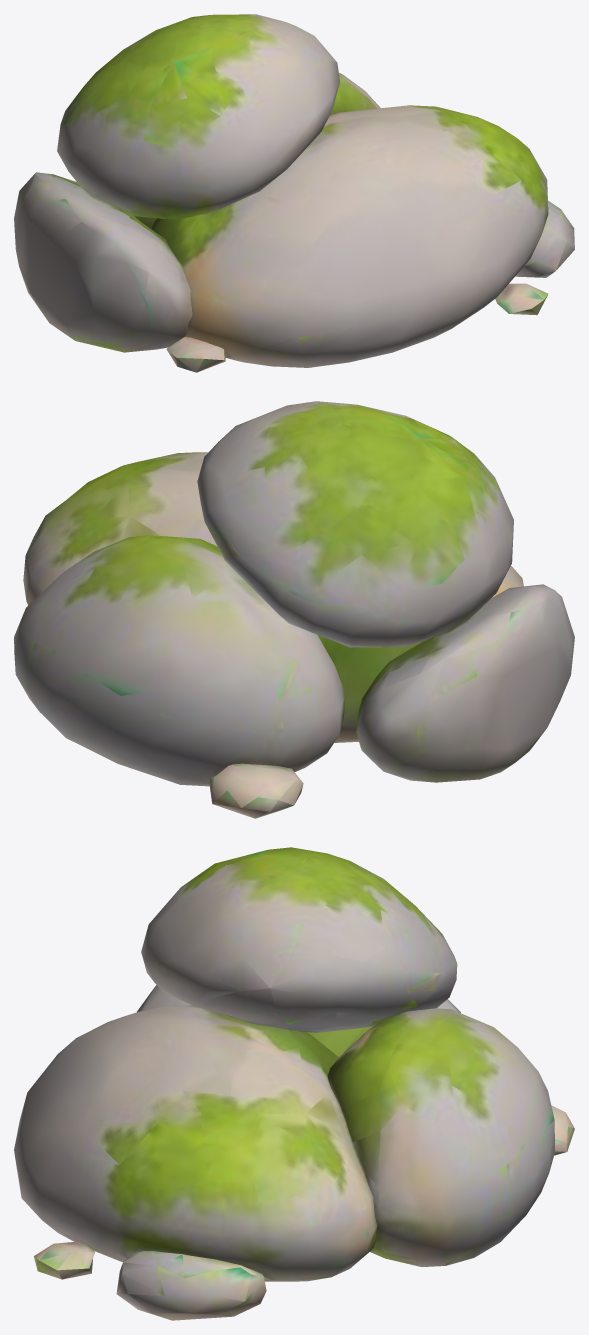
The model's file is roca_rio_0.glb.
3 renders of one model, top to bottom at view 1: azimuth 30°, elevation 25°; view 2: azimuth 150°, elevation 25°; view 3: azimuth 270°, elevation 25°, orthographic. The views are drawn at different scales.
Visible parts, largest first — view 1: roca_rio_0_malla; view 2: roca_rio_0_malla; view 3: roca_rio_0_malla.
Part boxes in pixels (bbox=[...]): roca_rio_0_malla: bbox=[14, 14, 574, 372]; roca_rio_0_malla: bbox=[14, 401, 574, 818]; roca_rio_0_malla: bbox=[14, 847, 574, 1320].
Bounding box in the file's own units: 0.3398 × 0.2037 × 0.3094.
1 material, 1 textured.
